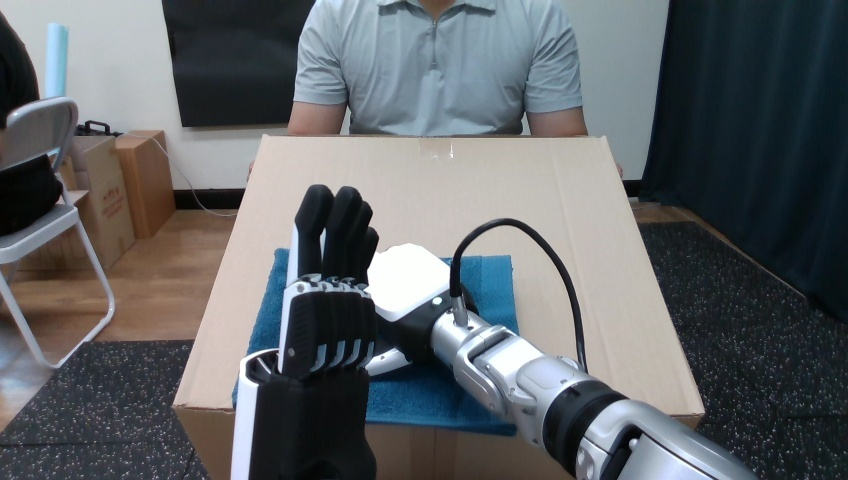left robot hand: (231, 185, 754, 479), (231, 184, 377, 478), (459, 226, 578, 361)
